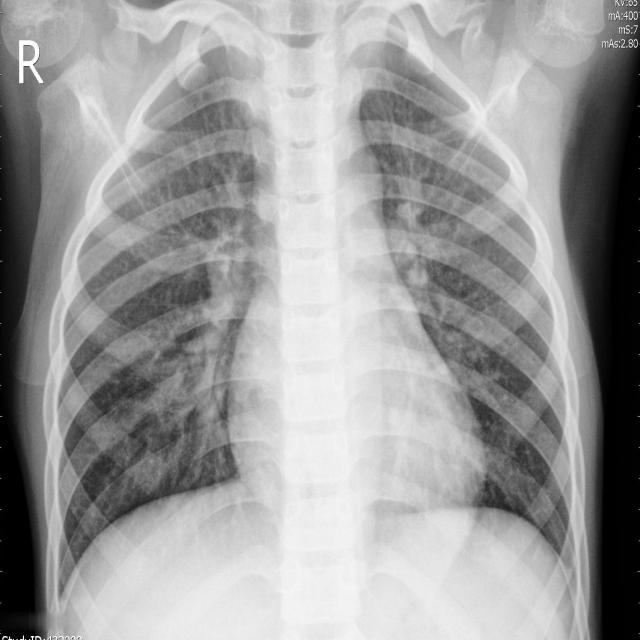low-pneumonia: (160, 147, 262, 439), (386, 168, 497, 388)
